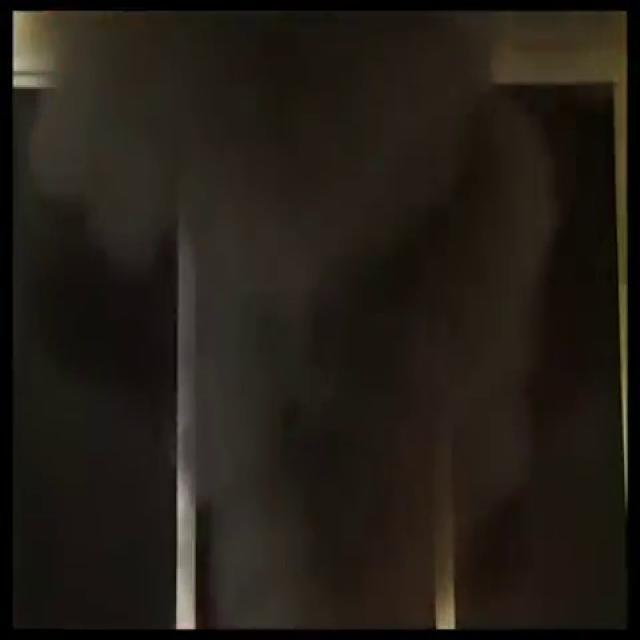Smoke: (69, 0, 626, 580)
